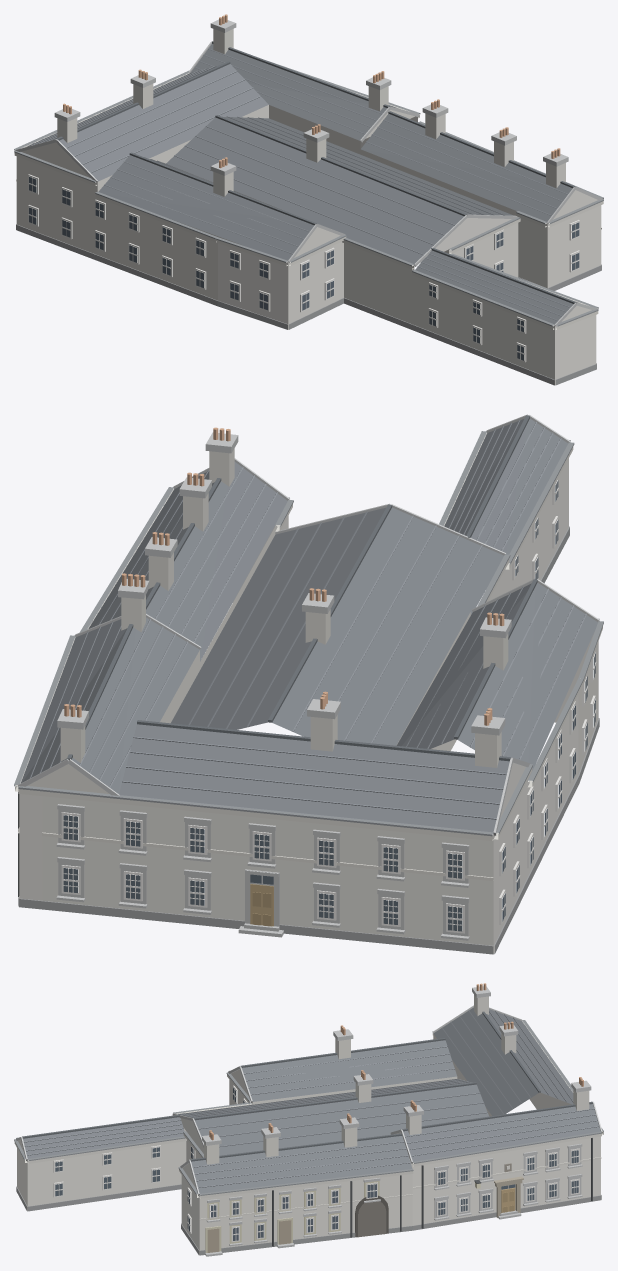
3 renders of one model, top to bottom at view 1: azimuth 30°, elevation 25°; view 2: azimuth 150°, elevation 25°; view 3: azimuth 270°, elevation 25°, orthographic. The views are drawn at different scales.
Parts seen in each view (by area): view 1: slate, harl, slate_lt, lead, frame, plinth, stone_band, chim_render, slate_dk, string, pot; view 2: slate, harl, stone_band, slate_lt, frame, lead, chim_render, plinth, string, slate_dk, pot; view 3: slate, harl, slate_lt, stone_band, frame, slate_dk, string, plinth, chim_render, lead, dress_buff, pend_in (+4 smaller).
Boxes of the visible parts, x1=… form: slate: x1=26, y1=43, x2=573, y2=325; harl: x1=16, y1=105, x2=601, y2=385; slate_lt: x1=30, y1=48, x2=578, y2=320; lead: x1=14, y1=61, x2=603, y2=326; frame: x1=28, y1=174, x2=579, y2=362; plinth: x1=16, y1=224, x2=601, y2=385; stone_band: x1=15, y1=19, x2=602, y2=326; chim_render: x1=57, y1=29, x2=565, y2=196; slate_dk: x1=56, y1=41, x2=576, y2=303; string: x1=14, y1=73, x2=603, y2=329; pot: x1=63, y1=14, x2=560, y2=168; slate: x1=20, y1=419, x2=597, y2=833; harl: x1=19, y1=458, x2=598, y2=953; stone_band: x1=18, y1=414, x2=599, y2=940; slate_lt: x1=29, y1=419, x2=586, y2=819; frame: x1=61, y1=478, x2=596, y2=933; lead: x1=14, y1=431, x2=603, y2=836; chim_render: x1=60, y1=448, x2=508, y2=767; plinth: x1=18, y1=526, x2=599, y2=954; string: x1=15, y1=433, x2=602, y2=880; slate_dk: x1=67, y1=415, x2=537, y2=761; pot: x1=64, y1=427, x2=504, y2=725; slate: x1=23, y1=1007, x2=600, y2=1193; harl: x1=17, y1=1034, x2=600, y2=1254; slate_lt: x1=23, y1=1010, x2=599, y2=1187; stone_band: x1=16, y1=986, x2=602, y2=1256; frame: x1=53, y1=1085, x2=579, y2=1241; slate_dk: x1=22, y1=1011, x2=592, y2=1161; string: x1=14, y1=1022, x2=603, y2=1220; plinth: x1=16, y1=1184, x2=601, y2=1255; chim_render: x1=204, y1=995, x2=589, y2=1164; lead: x1=14, y1=1020, x2=603, y2=1195; dress_buff: x1=205, y1=1181, x2=379, y2=1252; pend_in: x1=358, y1=1200, x2=386, y2=1237.
Size of the model in its own units: 31.12 by 9.95 by 45.87.
